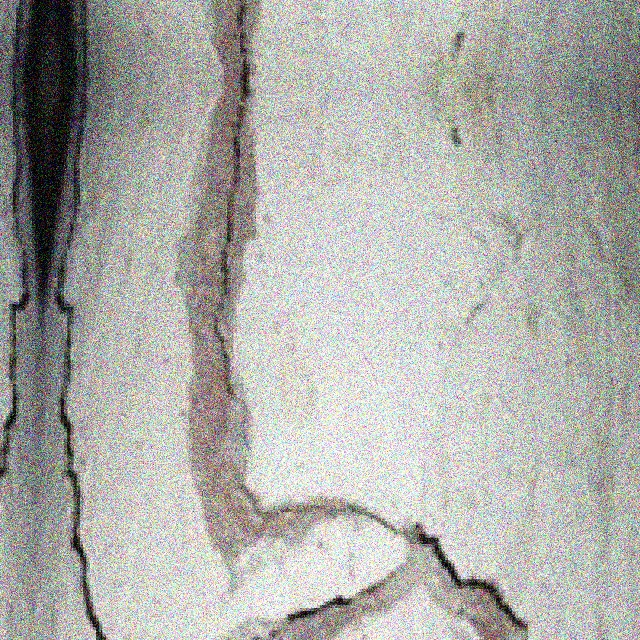SurfaceCrack: (182, 0, 292, 396), (228, 518, 552, 640)
